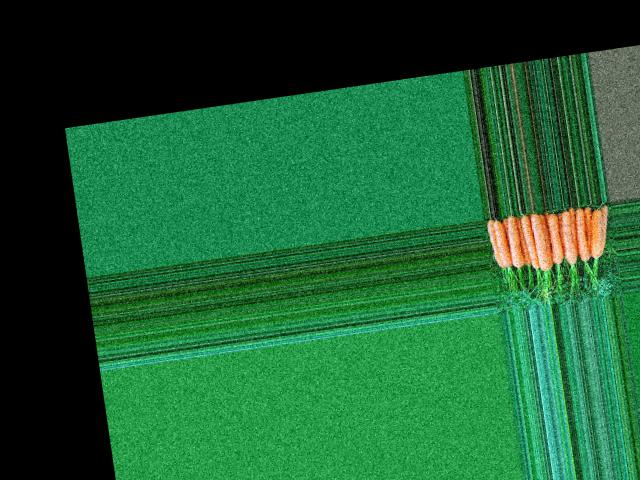carrot: (488, 216, 502, 267)
